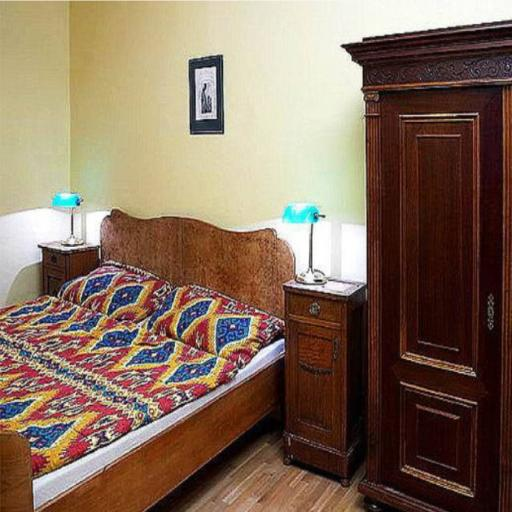bus: (344, 22, 512, 512)
person: (0, 209, 295, 512)
